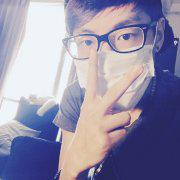OK: (71, 23, 154, 106)
